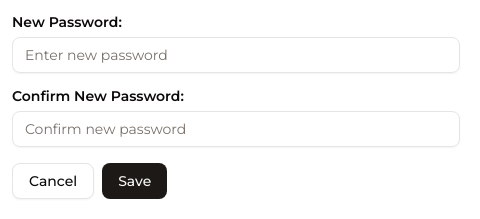
Scenario: ChangePasswordSection › resets the form when Cancel button is clicked
The width and height of the screenshot is (480, 219).
Type "somepassword" into the password field with placeholder "Enter new password".
click(236, 55); type("somepassword")  # box x1=12 y1=37 x2=460 y2=73
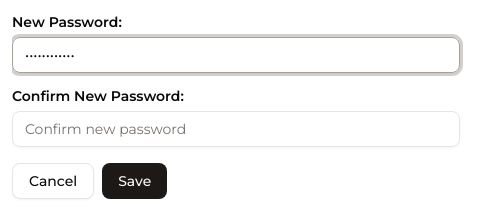
Type "somepassword" into the password field with placeholder "Confirm New Password".
click(236, 129); type("somepassword")  # box x1=12 y1=111 x2=460 y2=147
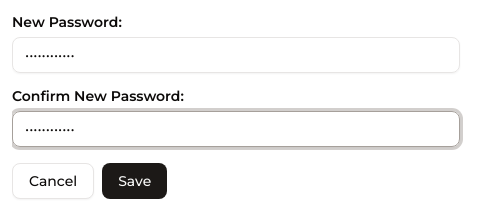
Click the button "Cancel".
click(53, 181)  # box x1=12 y1=163 x2=94 y2=199
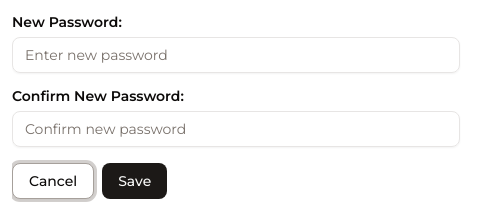
Expected: the password field with placeholder "Enter new password" is empty, x1=12 y1=37 x2=460 y2=73
Expected: the password field with placeholder "Confirm New Password" is empty, x1=12 y1=111 x2=460 y2=147
